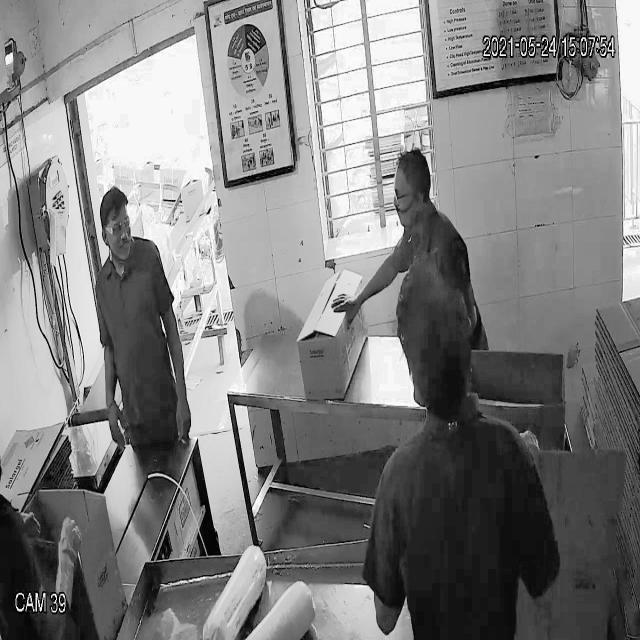glasses: (99, 214, 131, 240)
